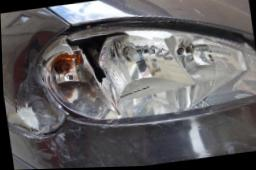Fender: (2, 70, 69, 134)
Light: (33, 26, 238, 122)
